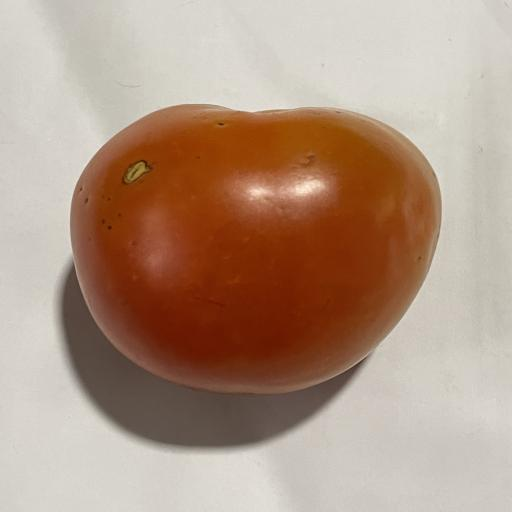ripe: (71, 105, 441, 394)
